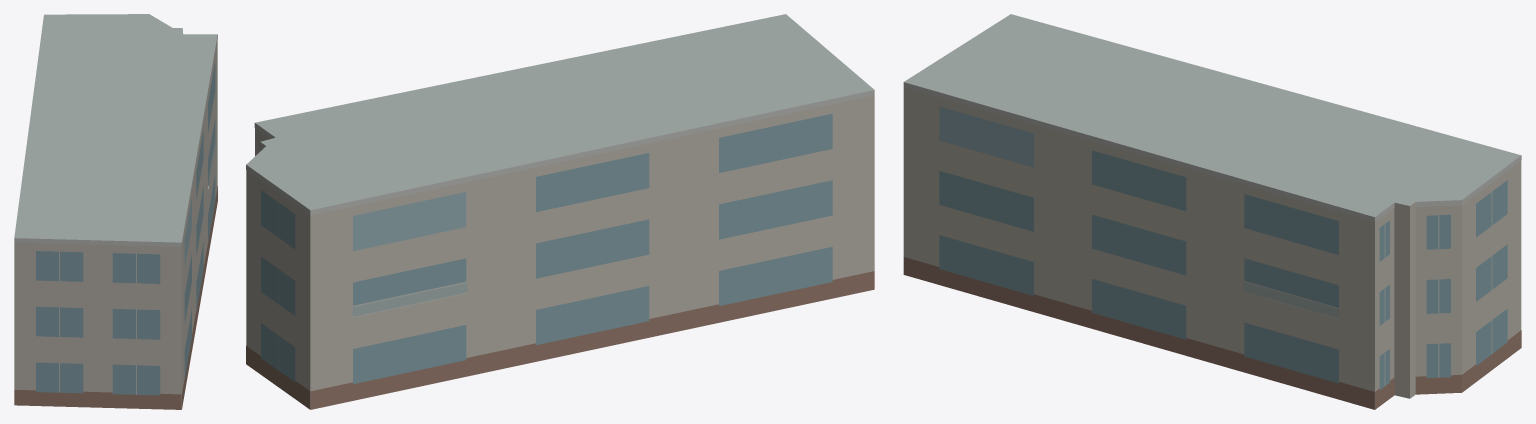
Rendered from survey-upis-32983286.glb.
3 views of the same model, side by side, from view 1: azimuth 30°, elevation 25°; view 2: azimuth 150°, elevation 25°; view 3: azimuth 270°, elevation 25° (orthographic). The views are drawn at different scales.
Visible parts, largest first — view 1: survey-upis-32983286.tmp; view 2: survey-upis-32983286.tmp; view 3: survey-upis-32983286.tmp.
Boxes of the visible parts, bbox=[...] form: survey-upis-32983286.tmp: bbox=[14, 14, 217, 409]; survey-upis-32983286.tmp: bbox=[246, 14, 874, 409]; survey-upis-32983286.tmp: bbox=[903, 14, 1521, 409].
Size of the model in its own units: 20.7 by 9.15 by 26.6.
